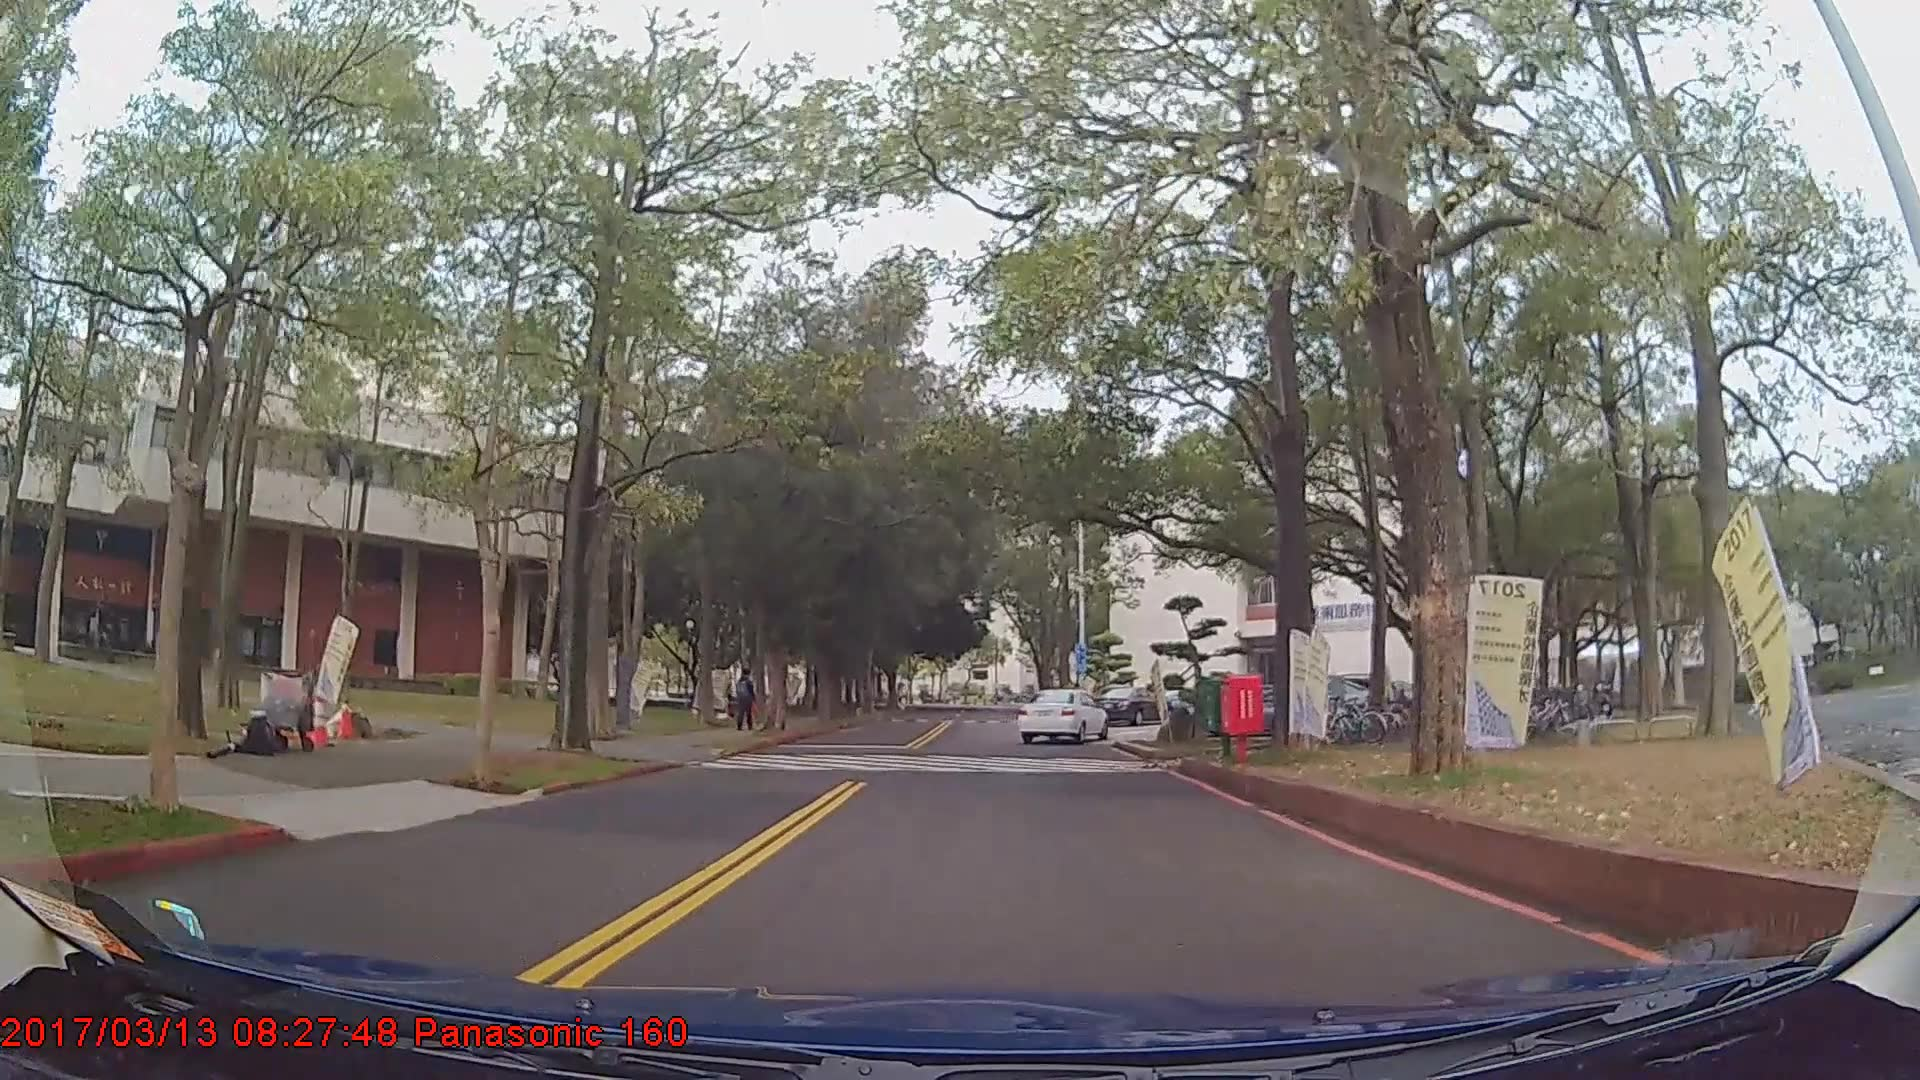pedestrian: (735, 668, 759, 730)
vehicle: (1016, 685, 1107, 745), (1095, 682, 1174, 724)
